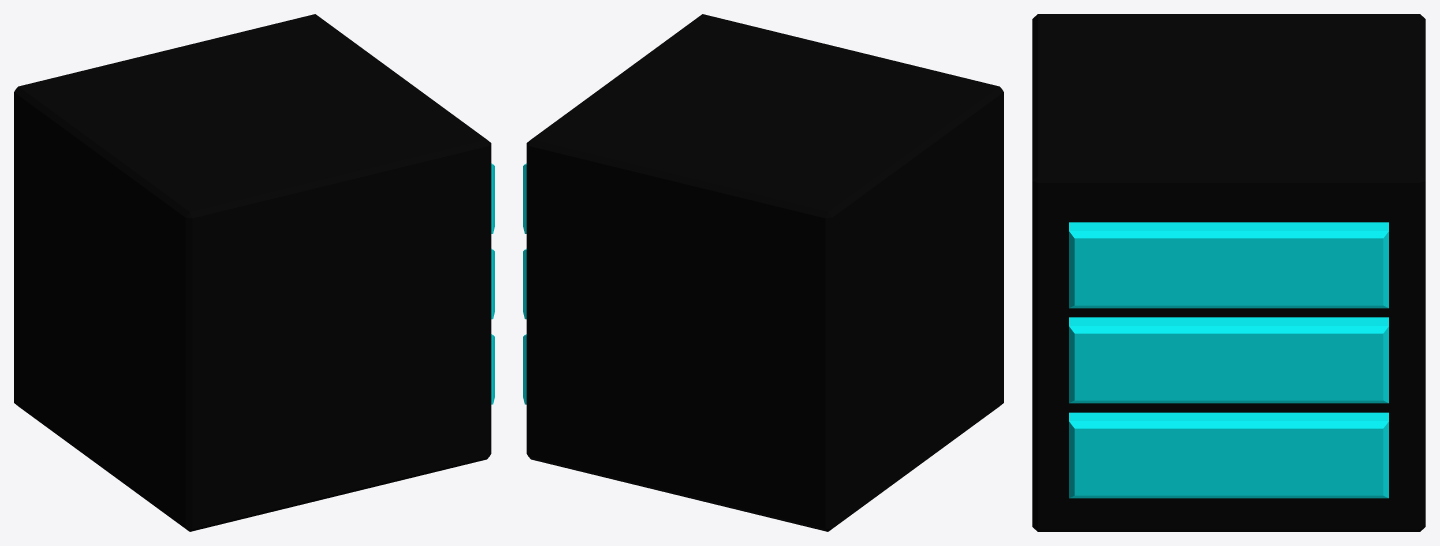
File: ScoreBoardButton.fbx
3 renders of one model, left to right at view 1: azimuth 30°, elevation 25°; view 2: azimuth 150°, elevation 25°; view 3: azimuth 270°, elevation 25°, orthographic. The views are drawn at different scales.
Parts seen in each view (by area): view 1: Cube.003; view 2: Cube.003; view 3: Cube.003.
Part boxes in pixels (x1=…): Cube.003: x1=14, y1=14, x2=494, y2=531; Cube.003: x1=523, y1=14, x2=1003, y2=531; Cube.003: x1=1032, y1=14, x2=1425, y2=531.
Bounding box in the file's own units: 160 × 150 × 150.
